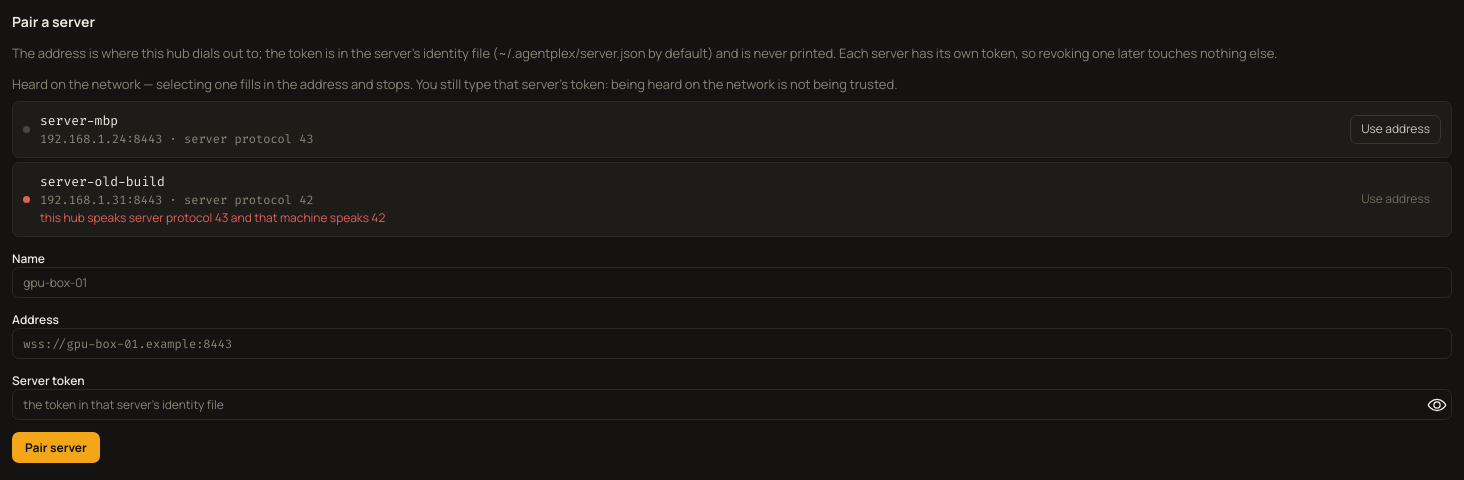
the pairing panel › fills the address from a candidate and stops there
expect the element that starts with "server-mbp" is shown: met, box [40,112,118,129]
Click the button "Use address" in the row of "192.168.1.24". click: (1396, 129)
box: [1350,115,1441,144]
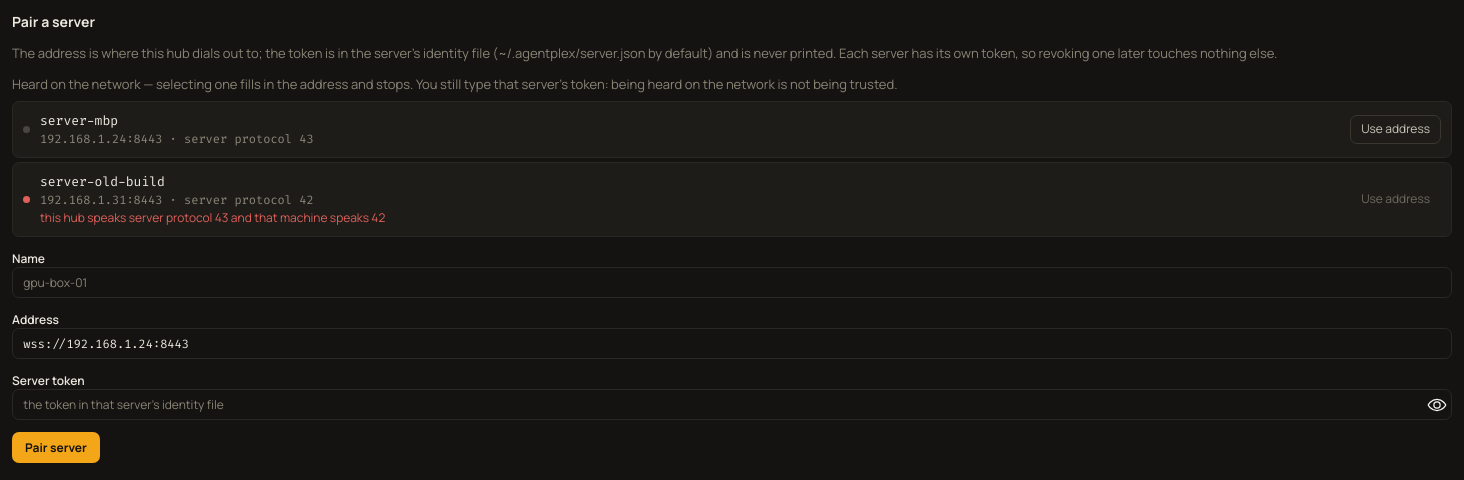
expect the field labelled "Name" is empty: met, box [12,267,1452,298]
expect the field labelled "Address" holds "wss://192.168.1.24:8443": met, box [12,328,1452,359]
